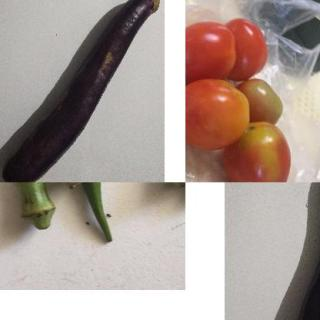Tomat: (186, 6, 301, 182)
